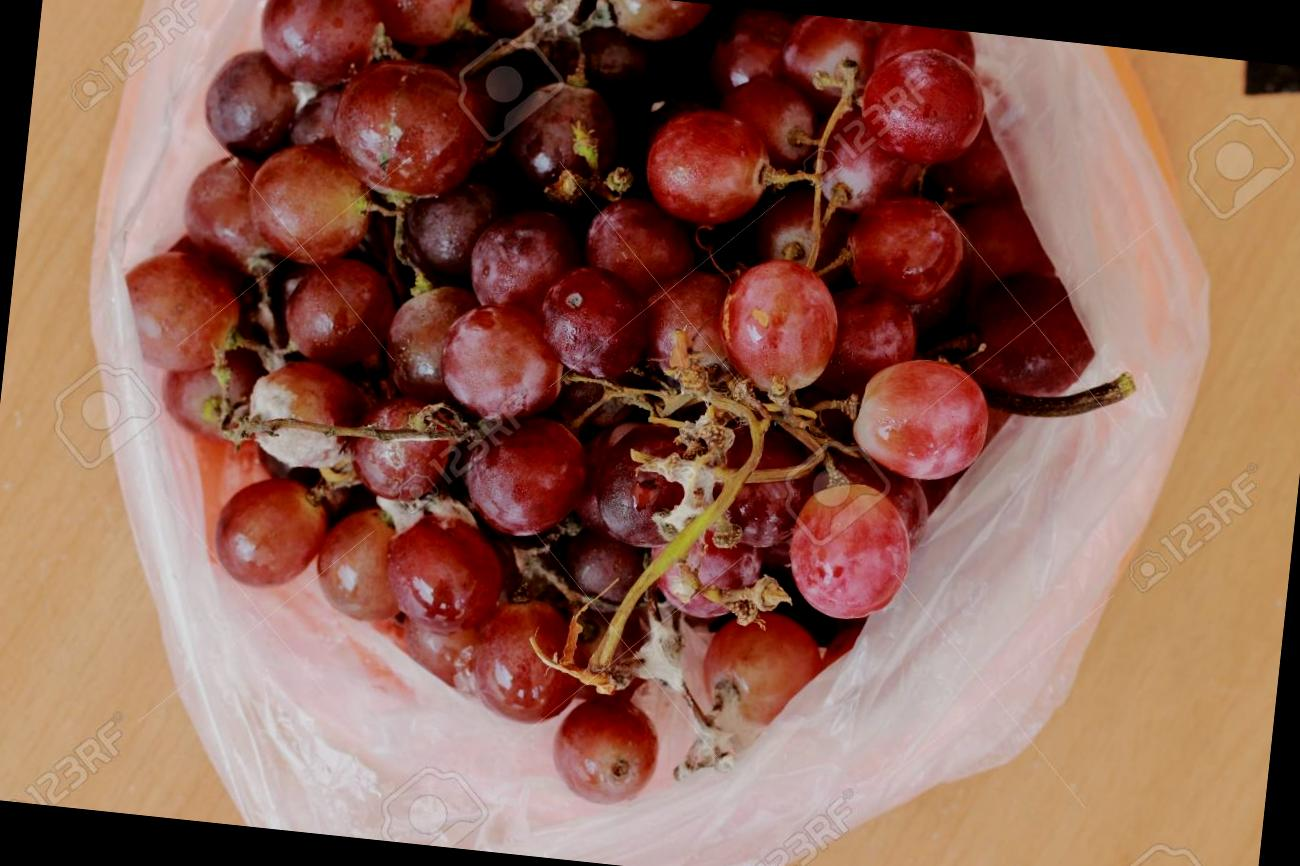Grape Rotten: (73, 0, 1168, 854)
